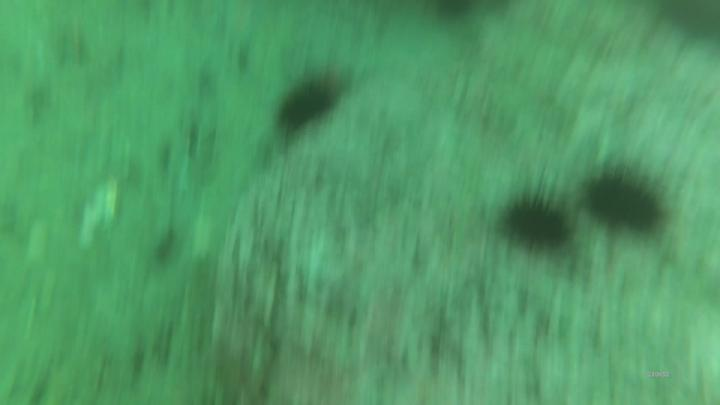echinus: (589, 180, 659, 233), (508, 203, 567, 246), (283, 87, 331, 125)
